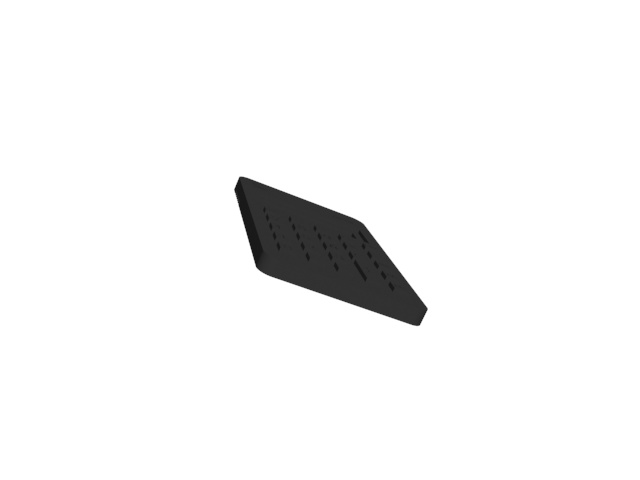calculator: (233, 177, 432, 328)
